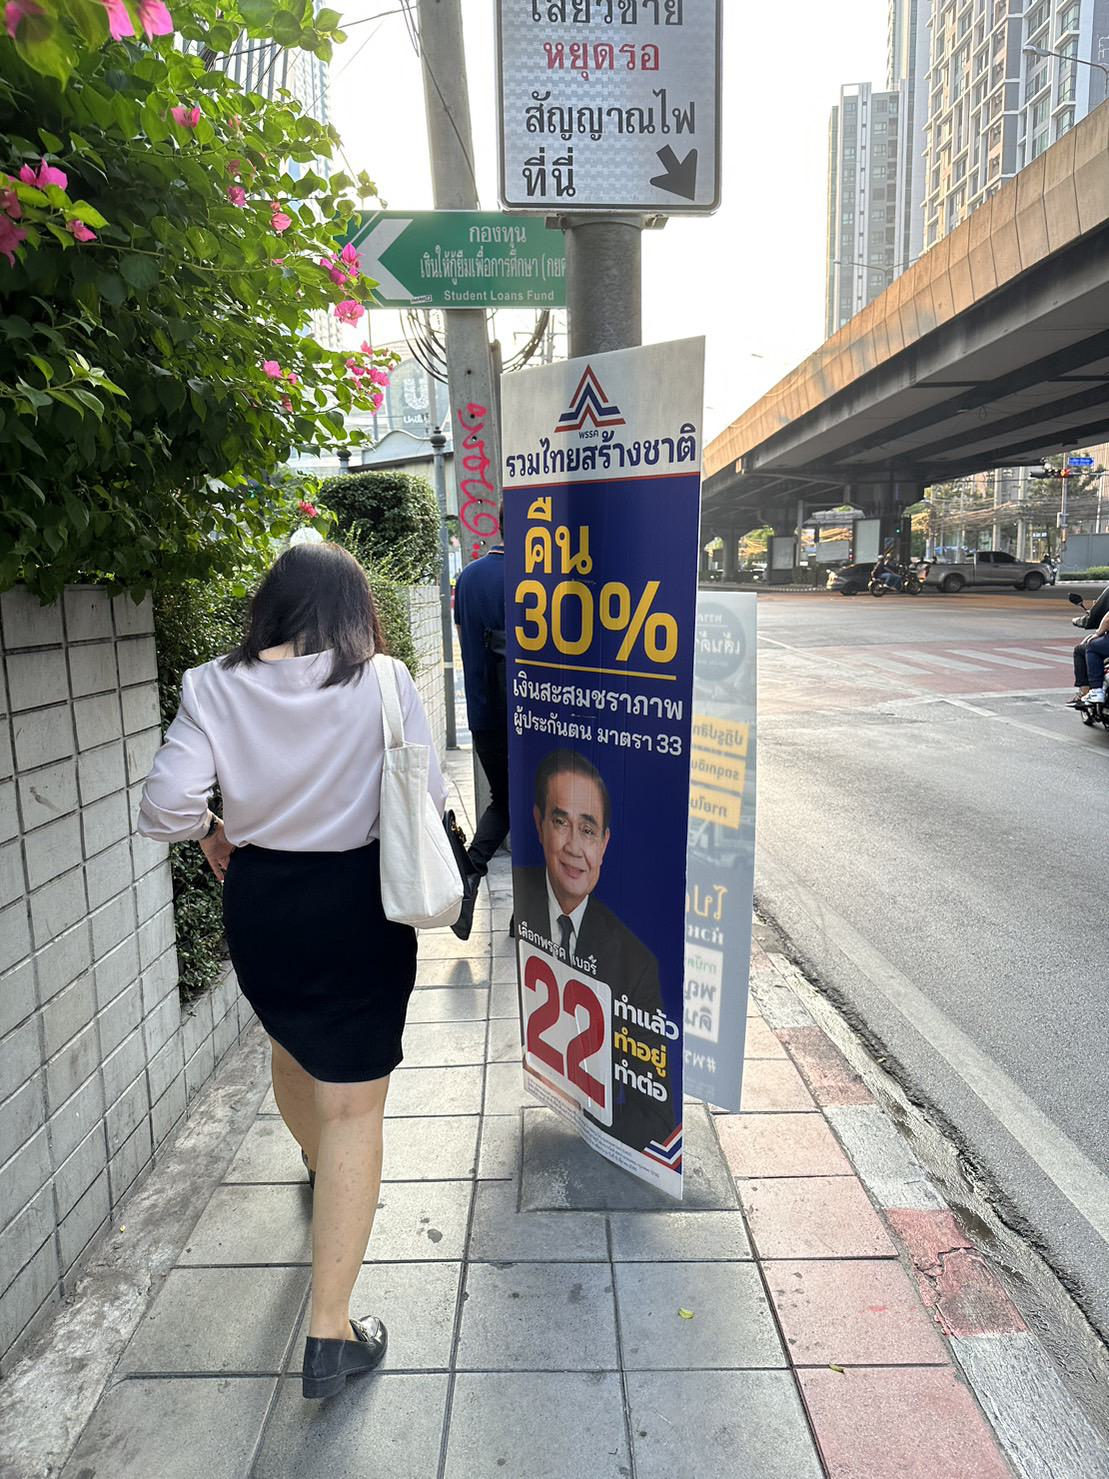Banner: (490, 366, 700, 1197)
